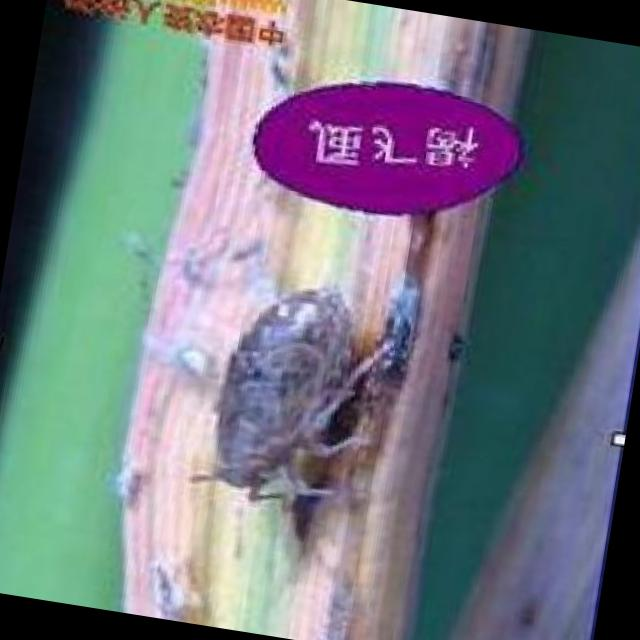brown-planthopper: (189, 261, 386, 515)
